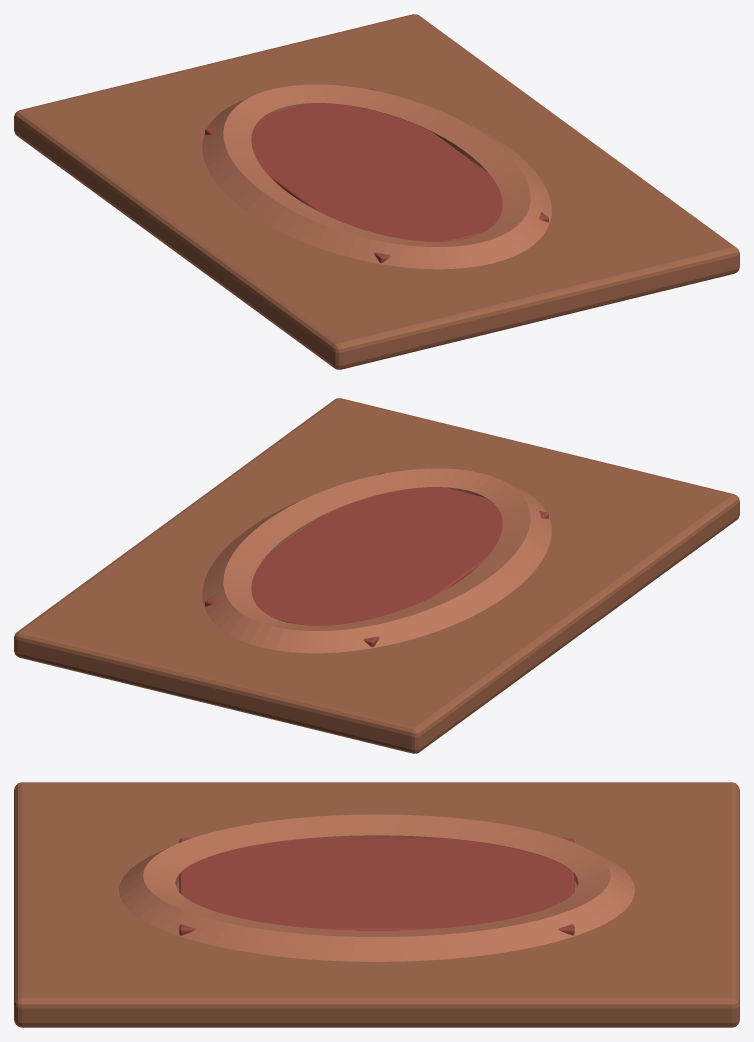
File: asset.fbx
3 renders of one model, top to bottom at view 1: azimuth 30°, elevation 25°; view 2: azimuth 150°, elevation 25°; view 3: azimuth 270°, elevation 25°, orthographic. The views are drawn at different scales.
Visible parts, largest first — view 1: radcare_wound_pad_flexible_skin_training_pad, radcare_wound_pad_shallow_simulated_wound, radcare_wound_pad_soft_raised_margin; view 2: radcare_wound_pad_flexible_skin_training_pad, radcare_wound_pad_shallow_simulated_wound, radcare_wound_pad_soft_raised_margin; view 3: radcare_wound_pad_flexible_skin_training_pad, radcare_wound_pad_shallow_simulated_wound, radcare_wound_pad_soft_raised_margin.
Boxes of the visible parts, <box> form: radcare_wound_pad_flexible_skin_training_pad: <box>14,14,739,369</box>; radcare_wound_pad_shallow_simulated_wound: <box>205,88,548,263</box>; radcare_wound_pad_soft_raised_margin: <box>202,84,551,269</box>; radcare_wound_pad_flexible_skin_training_pad: <box>14,398,739,753</box>; radcare_wound_pad_shallow_simulated_wound: <box>205,472,548,647</box>; radcare_wound_pad_soft_raised_margin: <box>202,468,551,653</box>; radcare_wound_pad_flexible_skin_training_pad: <box>14,782,739,1027</box>; radcare_wound_pad_shallow_simulated_wound: <box>179,838,574,935</box>; radcare_wound_pad_soft_raised_margin: <box>119,814,634,961</box>.
Size of the model in its own units: 0.065 by 0.006 by 0.09.
